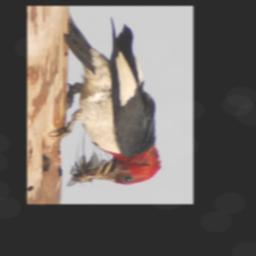Woodpecker: (49, 15, 161, 185)
